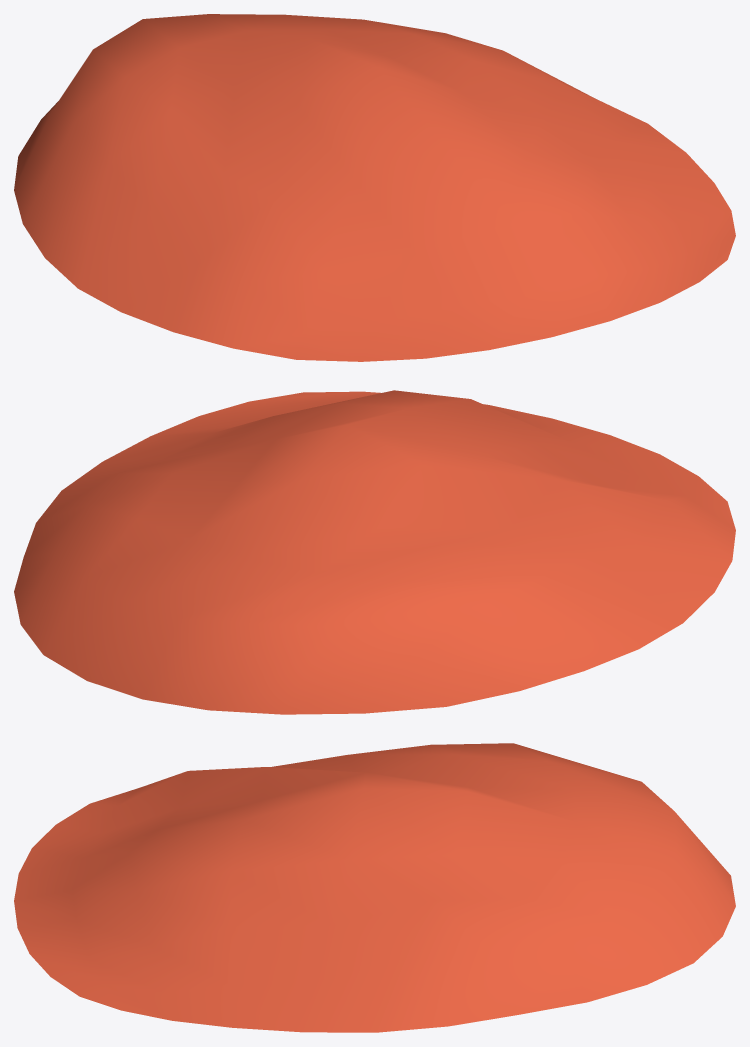
Rendered from SandHill1_Bogdan.fbx.
The picture shows the model from 3 angles, top to bottom: view 1: azimuth 30°, elevation 25°; view 2: azimuth 150°, elevation 25°; view 3: azimuth 270°, elevation 25°; orthographic projection. The views are drawn at different scales.
Parts seen in each view (by area): view 1: SandHill1; view 2: SandHill1; view 3: SandHill1.
Boxes of the visible parts, box(x1,y1,x2,y2) form: SandHill1: box(14, 14, 735, 361); SandHill1: box(14, 390, 735, 714); SandHill1: box(14, 743, 735, 1032).
Bounding box in the file's own units: 578 × 123 × 657.
